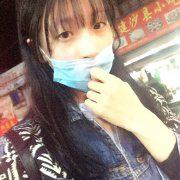WRONG: (41, 16, 117, 92)
